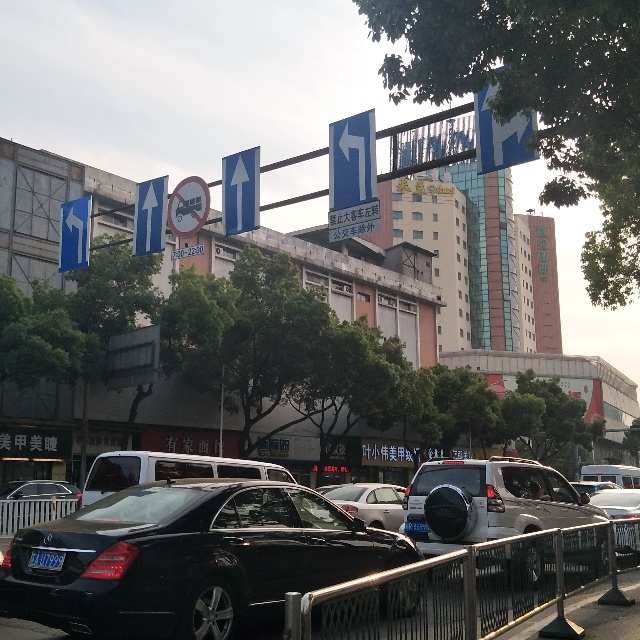left: (335, 119, 377, 204), (60, 202, 90, 266)
straight: (224, 152, 258, 234), (138, 182, 166, 255)
